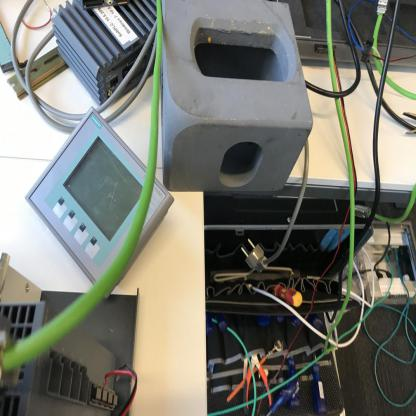CornerCasting: (154, 0, 316, 198)
